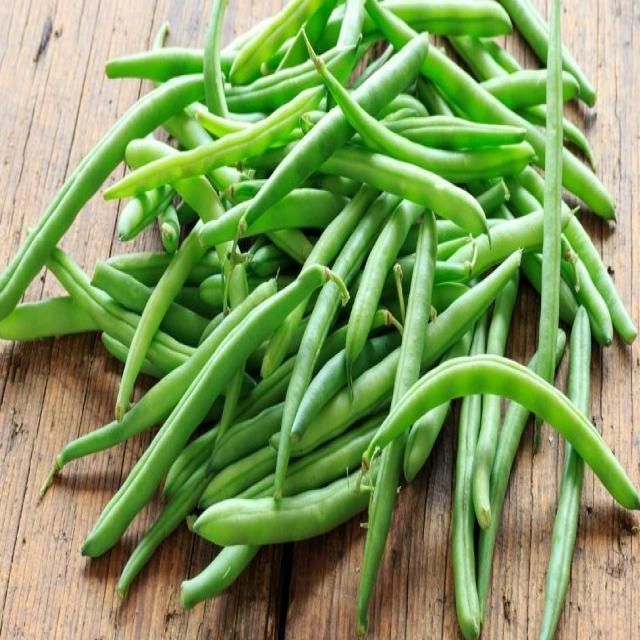Beans: (0, 0, 639, 639)
